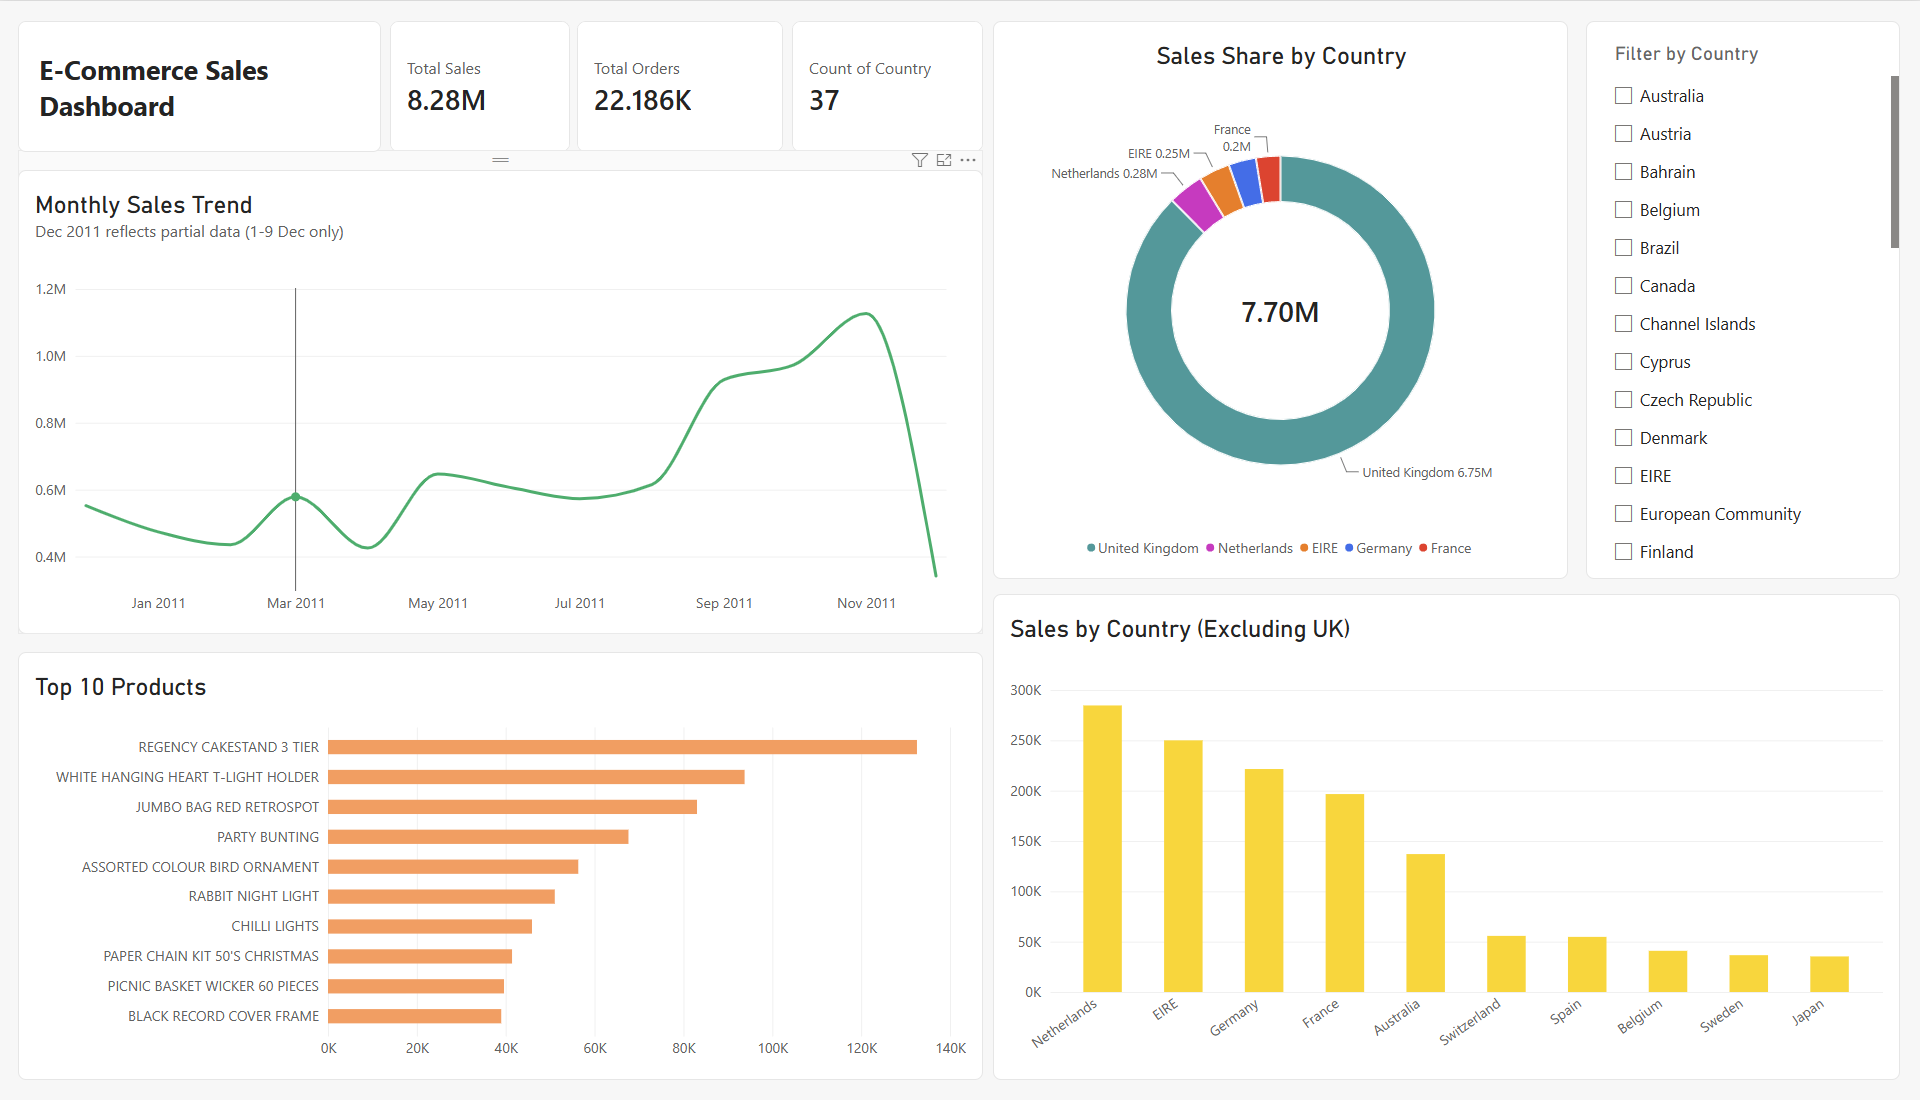

The dashboard page shown, as its layout file describes it:
{"tool":"powerbi","page":{"name":"Page 1","canvas":[1920,1080],"ordinal":0},"visuals":[{"type":"cardVisual","fields":{"Data":["Sum(data_clean.TotalSales)"]},"box":[389.7,0,180.6,130.6],"z":0},{"type":"cardVisual","fields":{"Data":["Count(data_clean.InvoiceNo)"]},"box":[577.2,0,206.1,130.6],"z":1000},{"type":"cardVisual","fields":{"Data":["Count(data_clean.Country)"]},"box":[792.1,0,190.4,130.6],"z":2000},{"type":"lineChart","title":"Monthly Sales Trend","fields":{"Category":["data_clean.YearMonth.變化.日期階層.年"],"Y":["Sum(data_clean.TotalSales)"]},"box":[0,149.2,982.6,463.3],"z":3000},{"type":"clusteredBarChart","title":"Top 10 Products","fields":{"Category":["data_clean.Description"],"Y":["Sum(data_clean.TotalSales)"]},"box":[0,631.2,982.6,448.6],"z":4000},{"type":"clusteredColumnChart","title":"Sales by Country (Excluding UK)","fields":{"Category":["data_clean.Country"],"Y":["Sum(data_clean.TotalSales)"]},"box":[993.4,573.3,926.6,506.5],"z":5000},{"type":"slicer","fields":{"Values":["data_clean.Country"]},"box":[1586.3,0,314.1,557.5],"z":6000},{"type":"donutChart","title":"Sales Share by Country","fields":{"Category":["data_clean.Country"],"Y":["Sum(data_clean.TotalSales)"]},"box":[993.4,0,574.2,557.5],"z":7000},{"type":"shape","title":"E-Commerce Sales Dashboard","box":[0,0,380.9,130.6],"z":7001}]}

Visuals, with their boxes in screenshot pixels (x1, y1, x2, y2), scaled from the page's 1920x1080 canvas onto the 1920x1100 screenshot:
cardVisual - Sum(data_clean.TotalSales): <bbox>390, 0, 570, 133</bbox>
cardVisual - Count(data_clean.InvoiceNo): <bbox>577, 0, 783, 133</bbox>
cardVisual - Count(data_clean.Country): <bbox>792, 0, 982, 133</bbox>
"Monthly Sales Trend" lineChart: <bbox>0, 152, 983, 624</bbox>
"Top 10 Products" clusteredBarChart: <bbox>0, 643, 983, 1099</bbox>
"Sales by Country (Excluding UK)" clusteredColumnChart: <bbox>993, 584, 1919, 1099</bbox>
slicer - data_clean.Country: <bbox>1586, 0, 1900, 568</bbox>
"Sales Share by Country" donutChart: <bbox>993, 0, 1568, 568</bbox>
"E-Commerce Sales Dashboard" shape: <bbox>0, 0, 381, 133</bbox>
